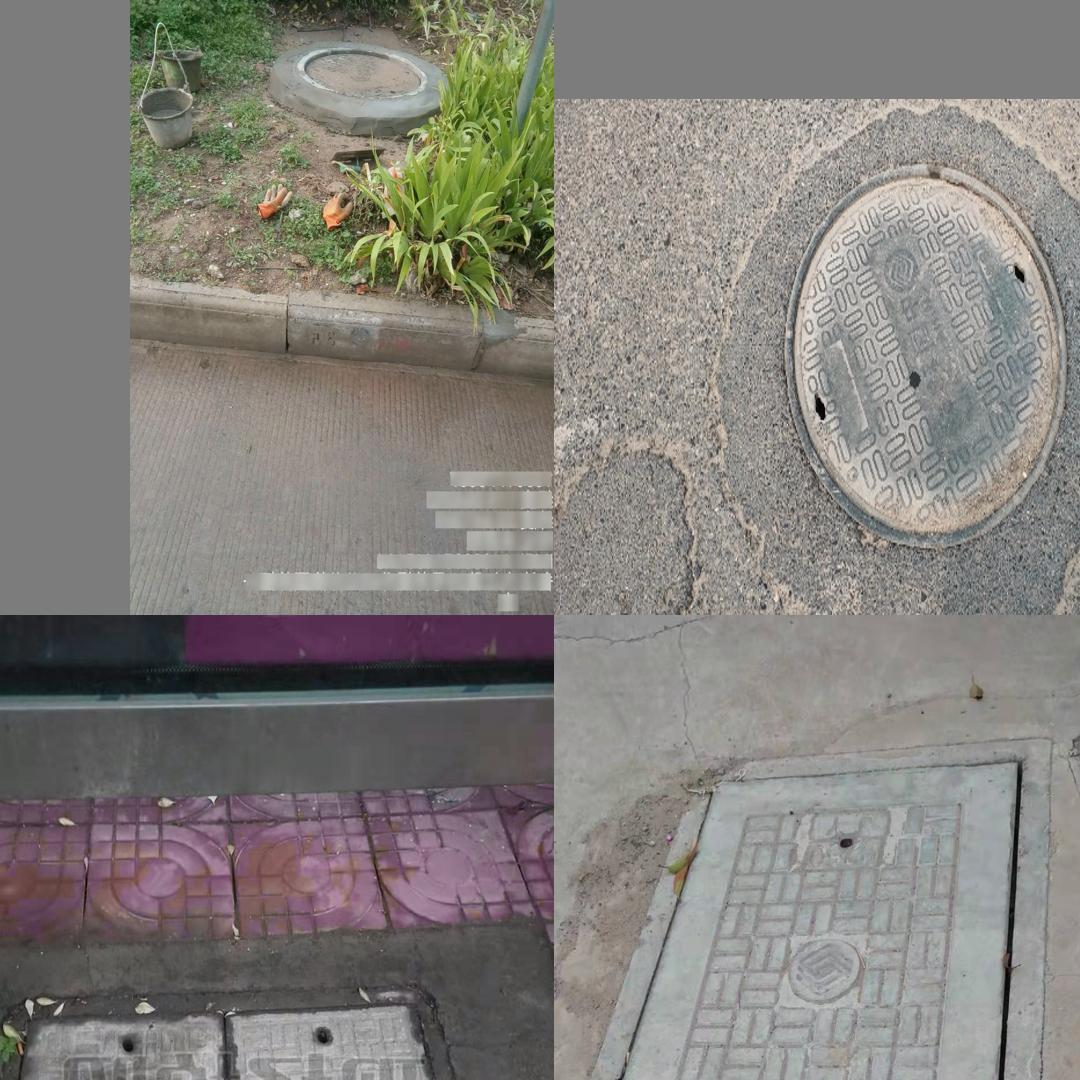good: (554, 736, 1050, 1080), (782, 180, 1067, 544), (0, 985, 511, 1080), (296, 46, 428, 96)
